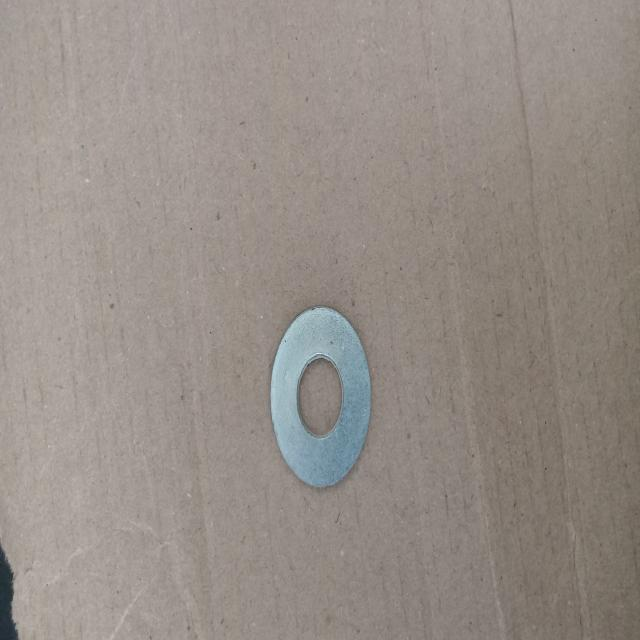washer: (271, 306, 371, 488)
